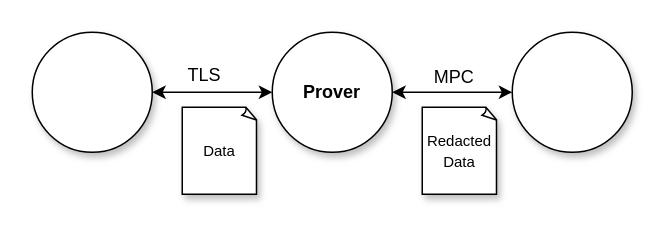
The diagram is 668 pixels wide and 231 high, and some of its shapes have lost their labels. Each missing label, with the centre of its shape:
"Server" goes at (93,94).
"Verifier" goes at (573,94).
